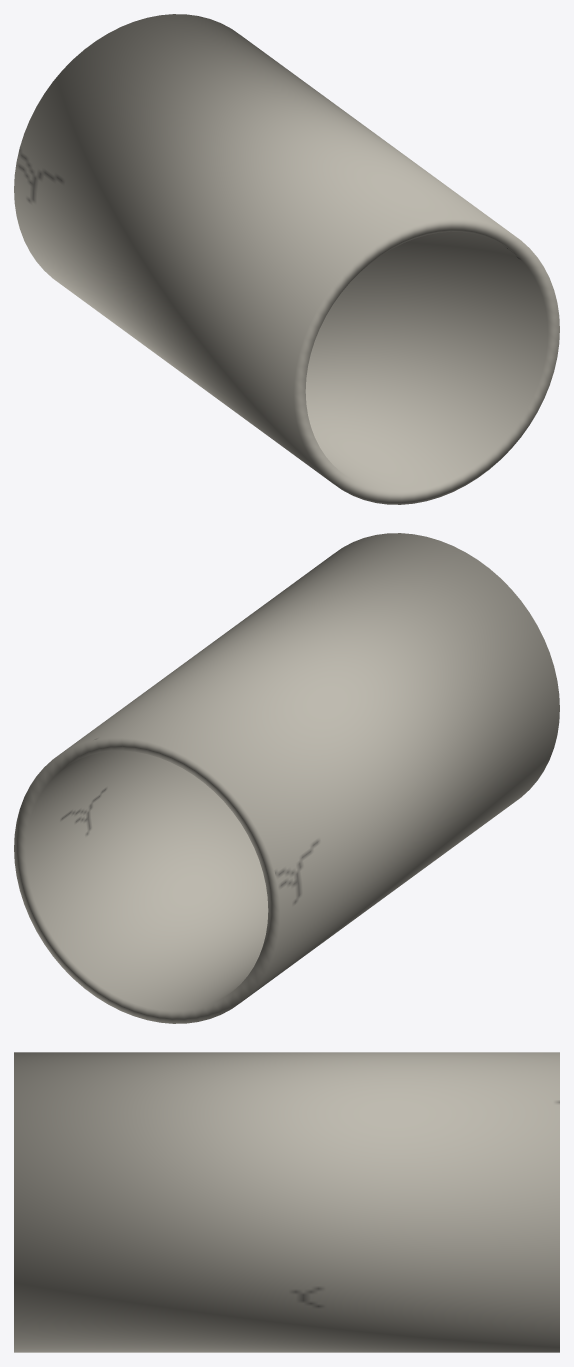
Rendered from pfb_ld_pipe_8x8x16.fbx.
3 renders of one model, top to bottom at view 1: azimuth 30°, elevation 25°; view 2: azimuth 150°, elevation 25°; view 3: azimuth 270°, elevation 25°, orthographic. The views are drawn at different scales.
Parts seen in each view (by area): view 1: Cylinder.002; view 2: Cylinder.002; view 3: Cylinder.002.
Boxes of the visible parts, left/top/right/bottom form: Cylinder.002: left=14, top=14, right=559, bottom=504; Cylinder.002: left=14, top=533, right=559, bottom=1023; Cylinder.002: left=14, top=1052, right=559, bottom=1352.
Size of the model in its own units: 1760 by 1760 by 3200.
